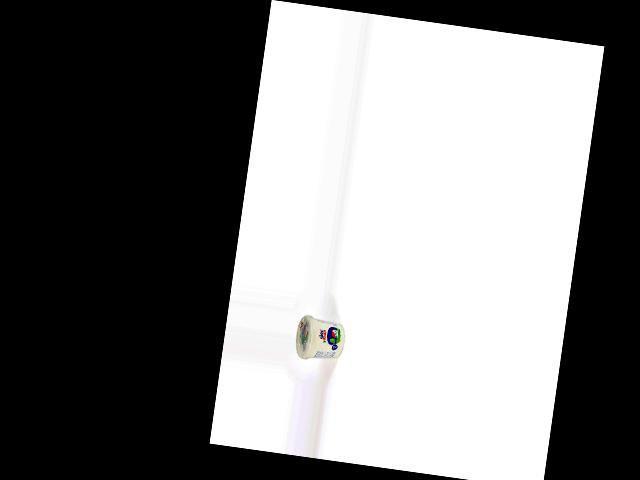cotage: (293, 312, 349, 365)
